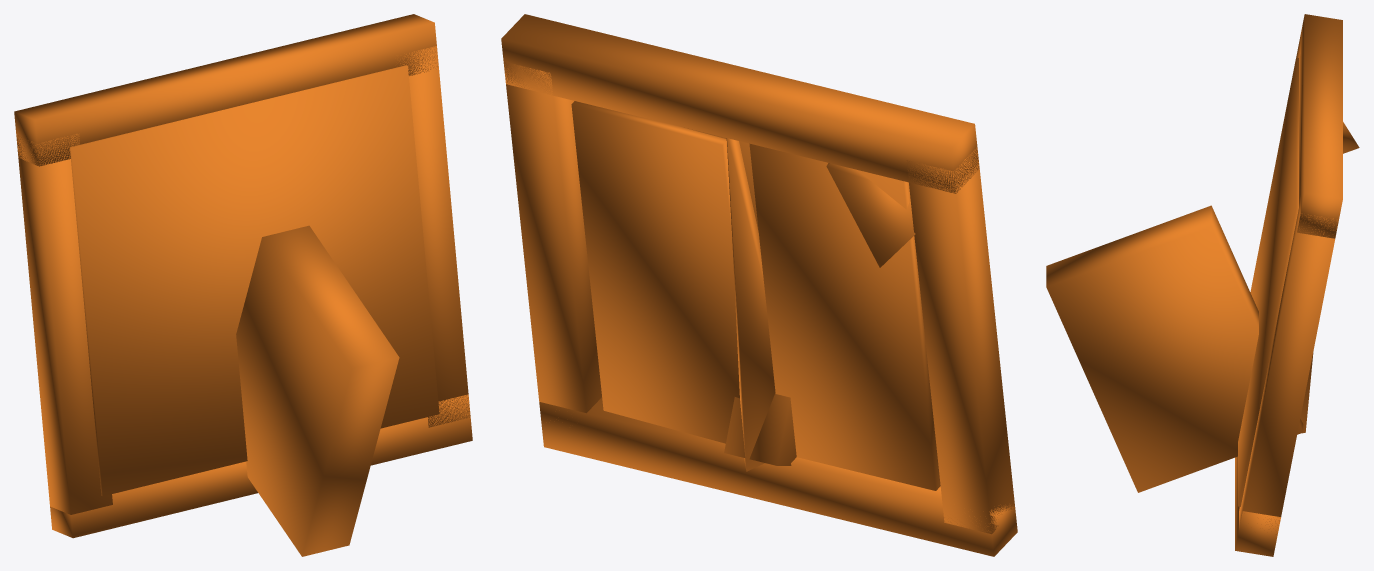
File: fotografia_rota.glb
The picture shows the model from 3 angles, left to right: view 1: azimuth 30°, elevation 25°; view 2: azimuth 150°, elevation 25°; view 3: azimuth 270°, elevation 25°; orthographic projection. The views are drawn at different scales.
Visible parts, largest first — view 1: FotografiaRota; view 2: FotografiaRota; view 3: FotografiaRota.
Part boxes in pixels (box(x1,y1,x2,y2)): FotografiaRota: box(14, 14, 472, 556); FotografiaRota: box(501, 14, 1017, 556); FotografiaRota: box(1046, 14, 1359, 556).
Size of the model in its own units: 0.38 by 0.3754 by 0.2813.
